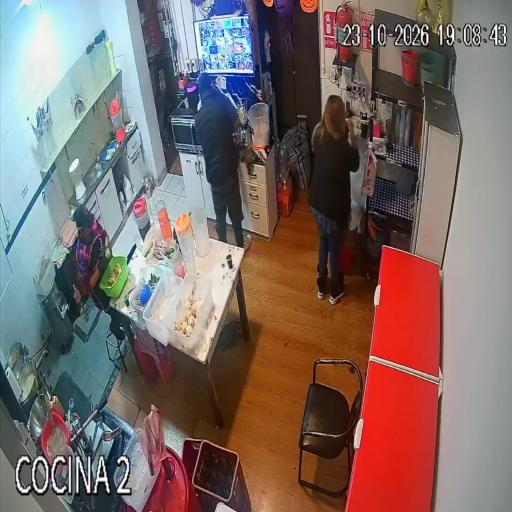Envase Llajua: (51, 395, 64, 418)
Jarra1: (133, 197, 150, 238)
Jarra2: (175, 213, 195, 265)
Jarra3: (190, 207, 210, 257)
Microondas: (171, 109, 202, 153)
Persona1: (195, 73, 244, 246)
Persona2: (73, 205, 125, 342)
Persona3: (309, 96, 359, 303)
Taper2: (128, 266, 170, 328)
Taper3: (143, 273, 182, 344)
Taper4: (163, 273, 214, 359)
